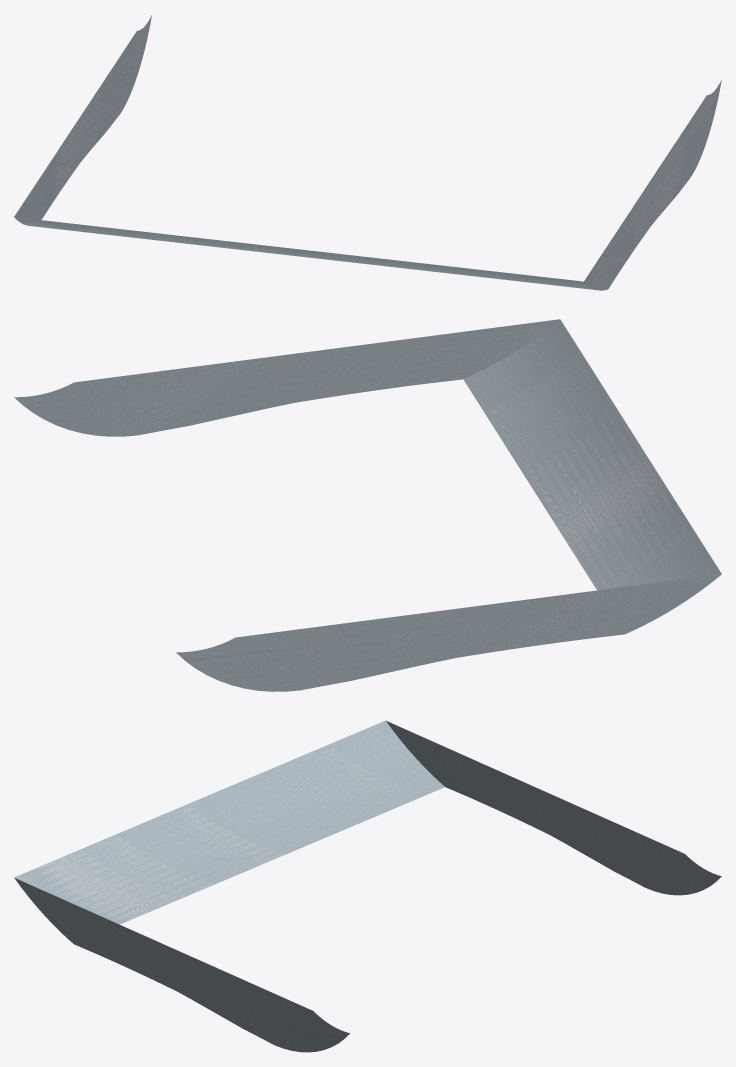
The model's file is bookleft.obj.
3 views of the same model, one above another, from view 1: azimuth 30°, elevation 25°; view 2: azimuth 150°, elevation 25°; view 3: azimuth 270°, elevation 25° (orthographic). The views are drawn at different scales.
Visible parts, largest first — view 1: SketchUp.005_ID69; view 2: SketchUp.005_ID69; view 3: SketchUp.005_ID69.
Part boxes in pixels (bbox=[...]): SketchUp.005_ID69: bbox=[14, 15, 721, 290]; SketchUp.005_ID69: bbox=[14, 319, 721, 691]; SketchUp.005_ID69: bbox=[14, 720, 721, 1052].
Size of the model in its own units: 0.0893 by 0.00802 by 0.0893.
